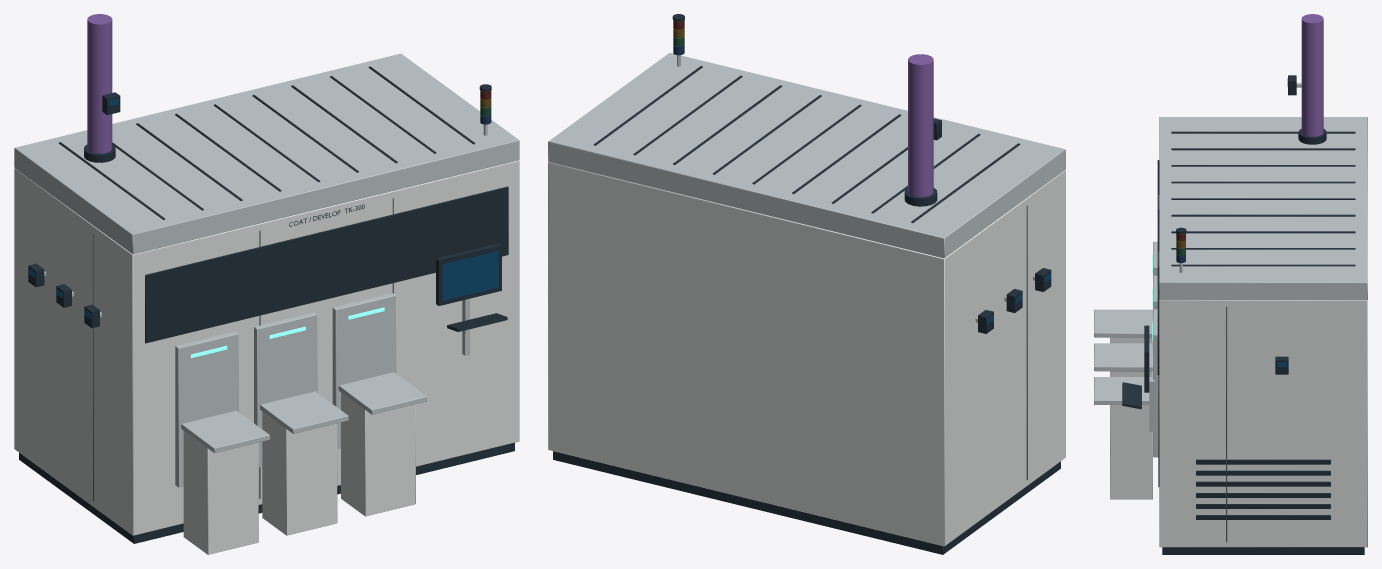
The model's file is fab1-tool-track.glb.
3 renders of one model, left to right at view 1: azimuth 30°, elevation 25°; view 2: azimuth 150°, elevation 25°; view 3: azimuth 270°, elevation 25°, orthographic. The views are drawn at different scales.
Visible parts, largest first — view 1: TOOL_TRK_Enclosure, TOOL_TRK_LoadPorts, TOOL_TRK_Exhaust, TOOL_TRK_Operator, TOOL_HMI_Screen; view 2: TOOL_TRK_Enclosure, TOOL_TRK_Exhaust; view 3: TOOL_TRK_Enclosure, TOOL_TRK_LoadPorts, TOOL_TRK_Exhaust, TOOL_TRK_Operator, TOOL_TRK_SignalTower.
Part boxes in pixels (left/top/right/bottom): TOOL_TRK_Enclosure: left=14, top=53, right=519, bottom=543; TOOL_TRK_LoadPorts: left=175, top=293, right=427, bottom=554; TOOL_TRK_Exhaust: left=84, top=14, right=115, bottom=162; TOOL_TRK_Operator: left=436, top=243, right=507, bottom=355; TOOL_HMI_Screen: left=442, top=251, right=498, bottom=300; TOOL_TRK_Enclosure: left=548, top=53, right=1065, bottom=554; TOOL_TRK_Exhaust: left=904, top=54, right=937, bottom=206; TOOL_TRK_Enclosure: left=1157, top=117, right=1367, bottom=554; TOOL_TRK_LoadPorts: left=1094, top=241, right=1158, bottom=499; TOOL_TRK_Exhaust: left=1298, top=14, right=1326, bottom=144; TOOL_TRK_Operator: left=1122, top=325, right=1154, bottom=431; TOOL_TRK_SignalTower: left=1176, top=227, right=1186, bottom=272.
Size of the model in its own units: 3.43 by 3.55 by 2.23.
3 materials, 1 textured.
